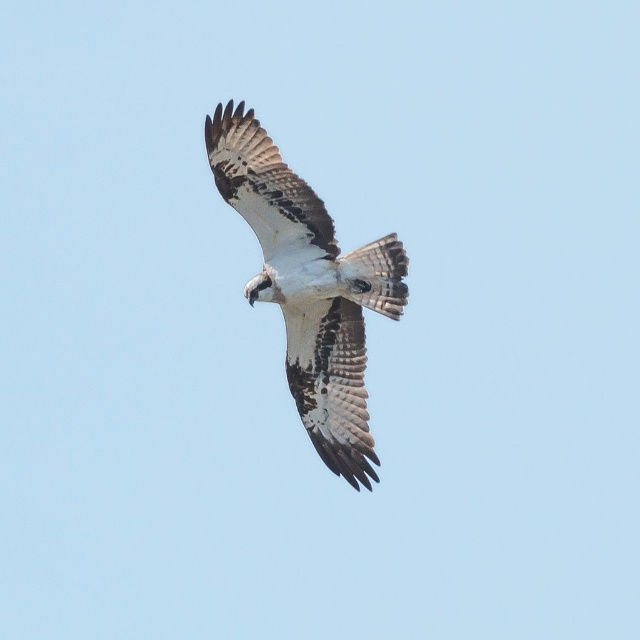Eagle: (200, 95, 420, 502)
